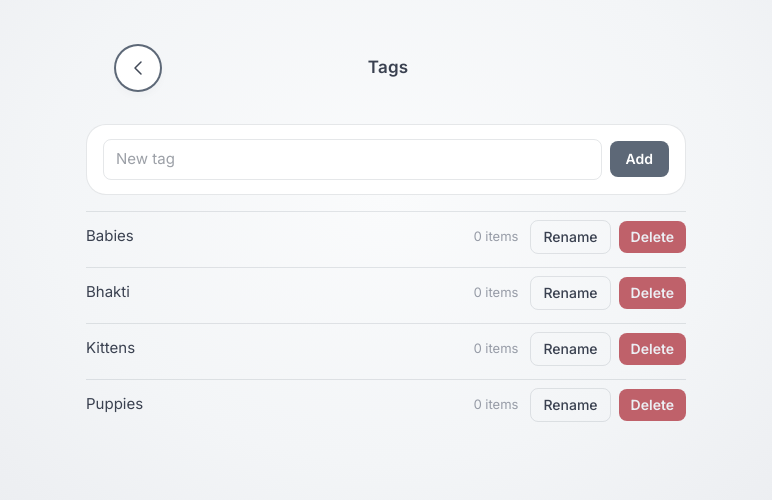
TagsScreen › creates a standalone tag
Type "Sunset" into the field labelled "New tag" at (352,159), box [103,139,602,180]
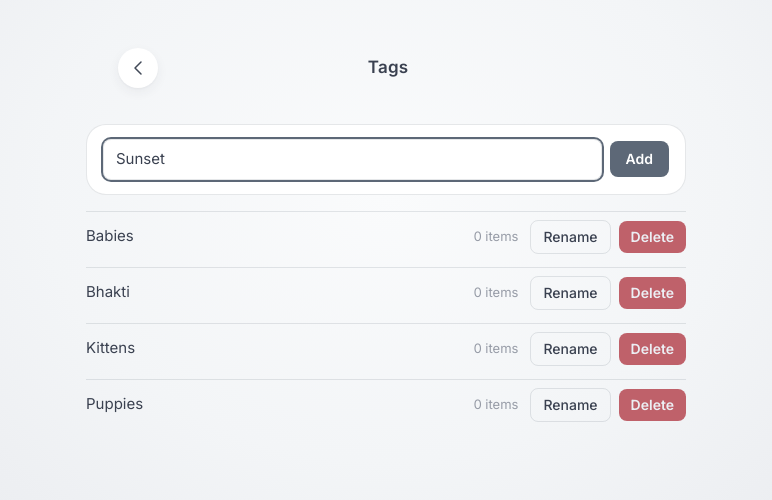
Click the button "Add" at (639,159), box [610,141,669,177]
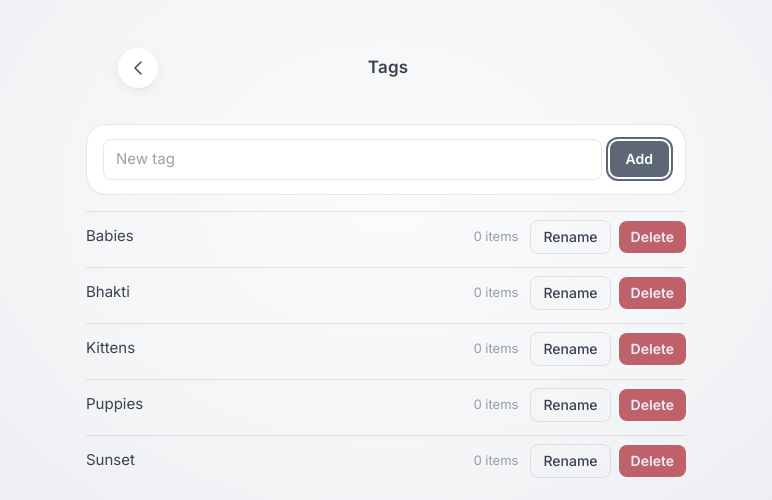
Expected: the text "Sunset" is shown, [86,449,135,472]
